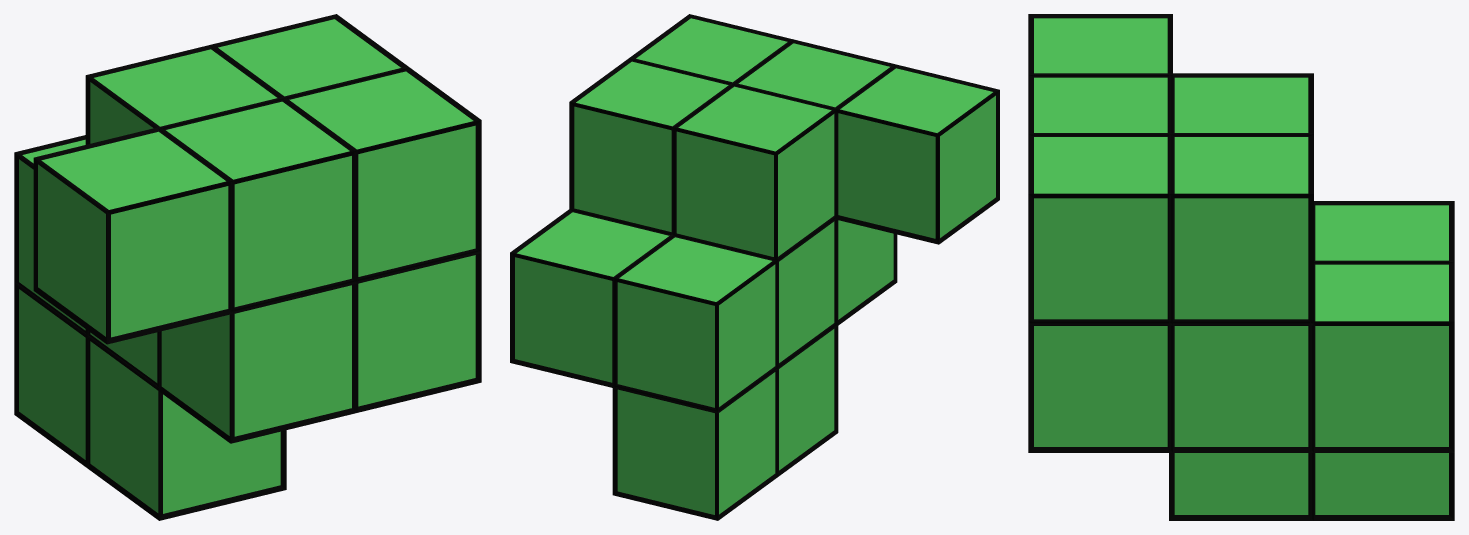
3 views of the same model, side by side, from view 1: azimuth 30°, elevation 25°; view 2: azimuth 150°, elevation 25°; view 3: azimuth 270°, elevation 25° (orthographic). The views are drawn at different scales.
Visible parts, largest first — view 1: d2:Mesh; view 2: d2:Mesh; view 3: d2:Mesh.
Boxes of the visible parts, <box> form: d2:Mesh: <box>14,14,481,520</box>; d2:Mesh: <box>510,14,999,520</box>; d2:Mesh: <box>1028,14,1454,520</box>.
Size of the model in its own units: 6.06 by 6.06 by 6.06.
